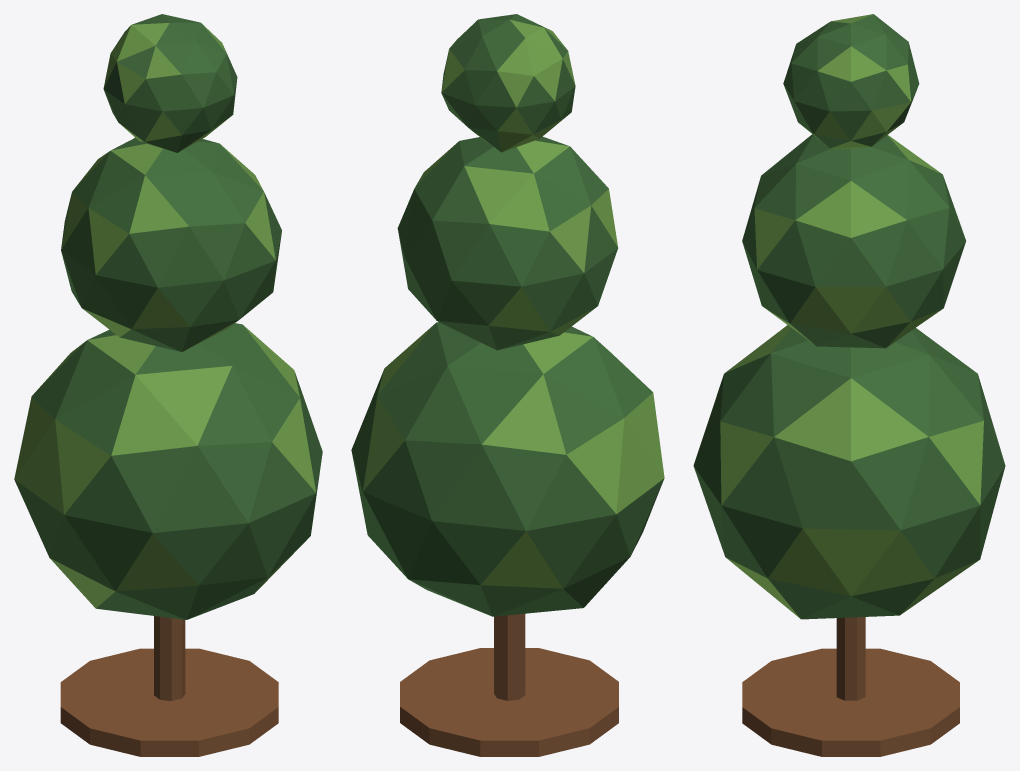
The model's file is FMS_Garden_Topiary_Tiered.fbx.
3 views of the same model, side by side, from view 1: azimuth 30°, elevation 25°; view 2: azimuth 150°, elevation 25°; view 3: azimuth 270°, elevation 25° (orthographic).
Visible parts, largest first — view 1: FMS_Garden_Topiary_Tiered_Body; view 2: FMS_Garden_Topiary_Tiered_Body; view 3: FMS_Garden_Topiary_Tiered_Body.
Part boxes in pixels (<box>): FMS_Garden_Topiary_Tiered_Body: <box>14,14,322,756</box>; FMS_Garden_Topiary_Tiered_Body: <box>351,14,664,756</box>; FMS_Garden_Topiary_Tiered_Body: <box>693,14,1005,756</box>.
Bounding box in the file's own units: 0.6744 × 1.68 × 0.692.
Materials: 1 (1 with a texture image).
